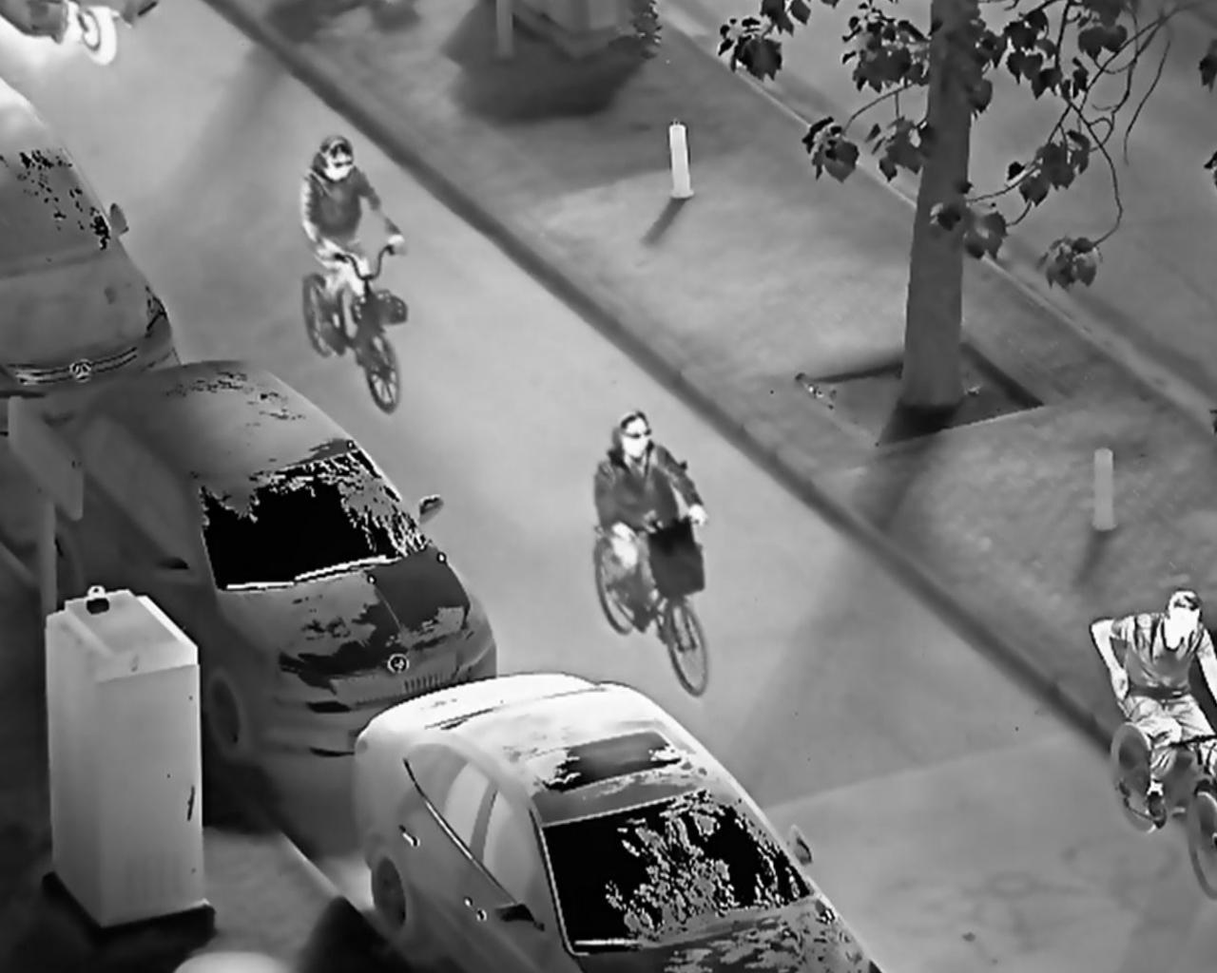person: (1085, 586, 1217, 833), (590, 407, 709, 657), (297, 132, 410, 359)
